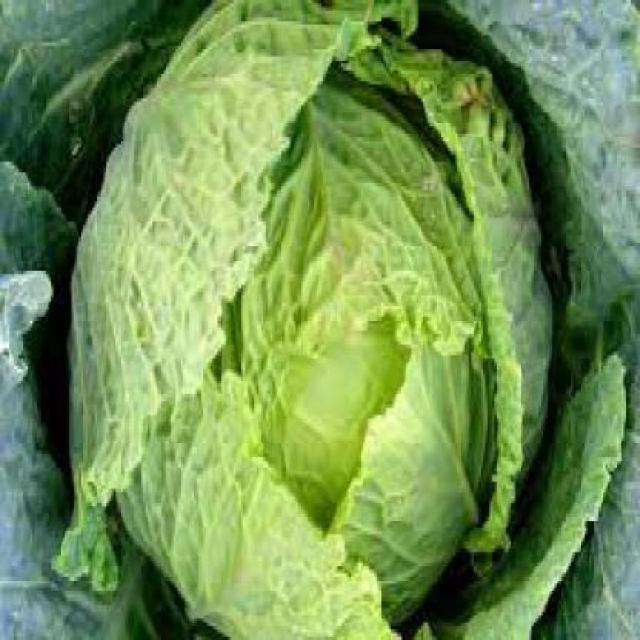BIODEGRADABLE: (1, 3, 638, 639), (56, 3, 558, 639)
